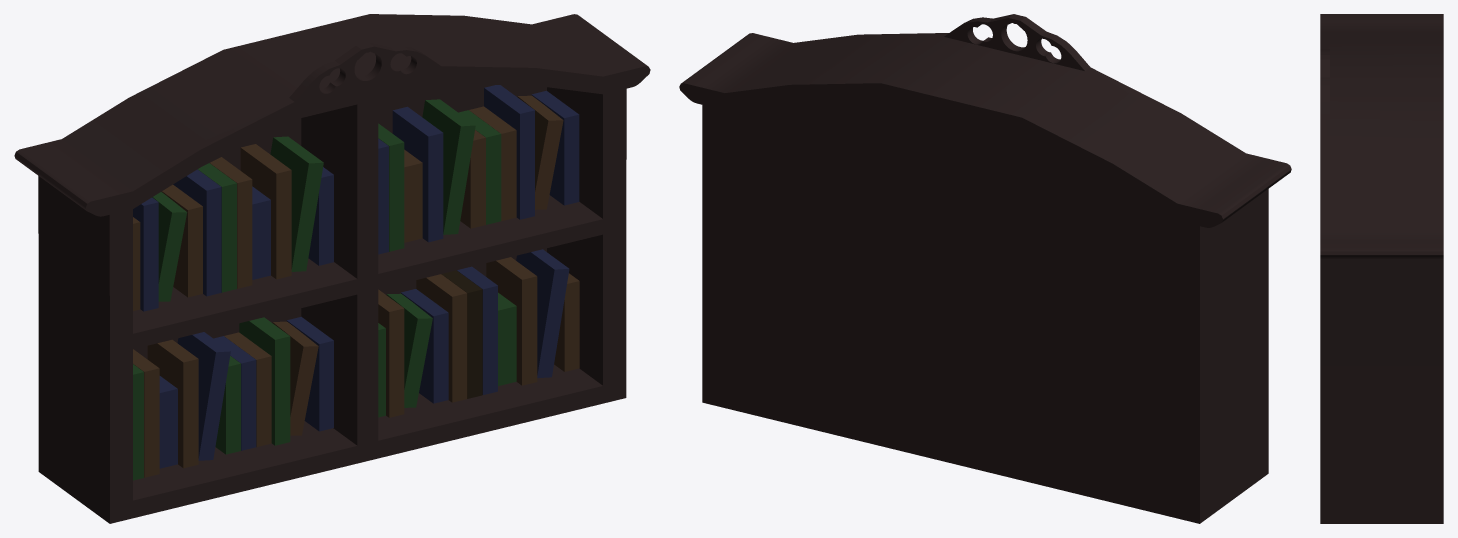
The model's file is book shelf.fbx.
3 views of the same model, side by side, from view 1: azimuth 30°, elevation 25°; view 2: azimuth 150°, elevation 25°; view 3: azimuth 270°, elevation 25° (orthographic). The views are drawn at different scales.
Visible parts, largest first — view 1: polySurface3, pCube9, pCube47, pCube48, pCube8, pCube34, pCube19, pCube20, pCube35, pCube4, pCube24, pCube31 (+33 smaller); view 2: polySurface3; view 3: polySurface3.
Part boxes in pixels (box(x1,y1,x2,y2)): polySurface3: box(14, 14, 650, 523); pCube9: box(392, 106, 443, 242); pCube47: box(240, 144, 291, 279); pCube48: box(270, 136, 323, 271); pCube8: box(422, 99, 475, 234); pCube34: box(486, 257, 537, 385); pCube19: box(147, 339, 198, 468); pCube20: box(177, 332, 230, 460); pCube35: box(516, 249, 569, 378); pCube4: box(484, 85, 534, 219); pCube24: box(239, 317, 290, 445); pCube31: box(416, 274, 467, 402); polySurface3: box(679, 14, 1291, 523); polySurface3: box(1320, 14, 1443, 523).
Bounding box in the file's own units: 10.61 × 7.41 × 2.32.
